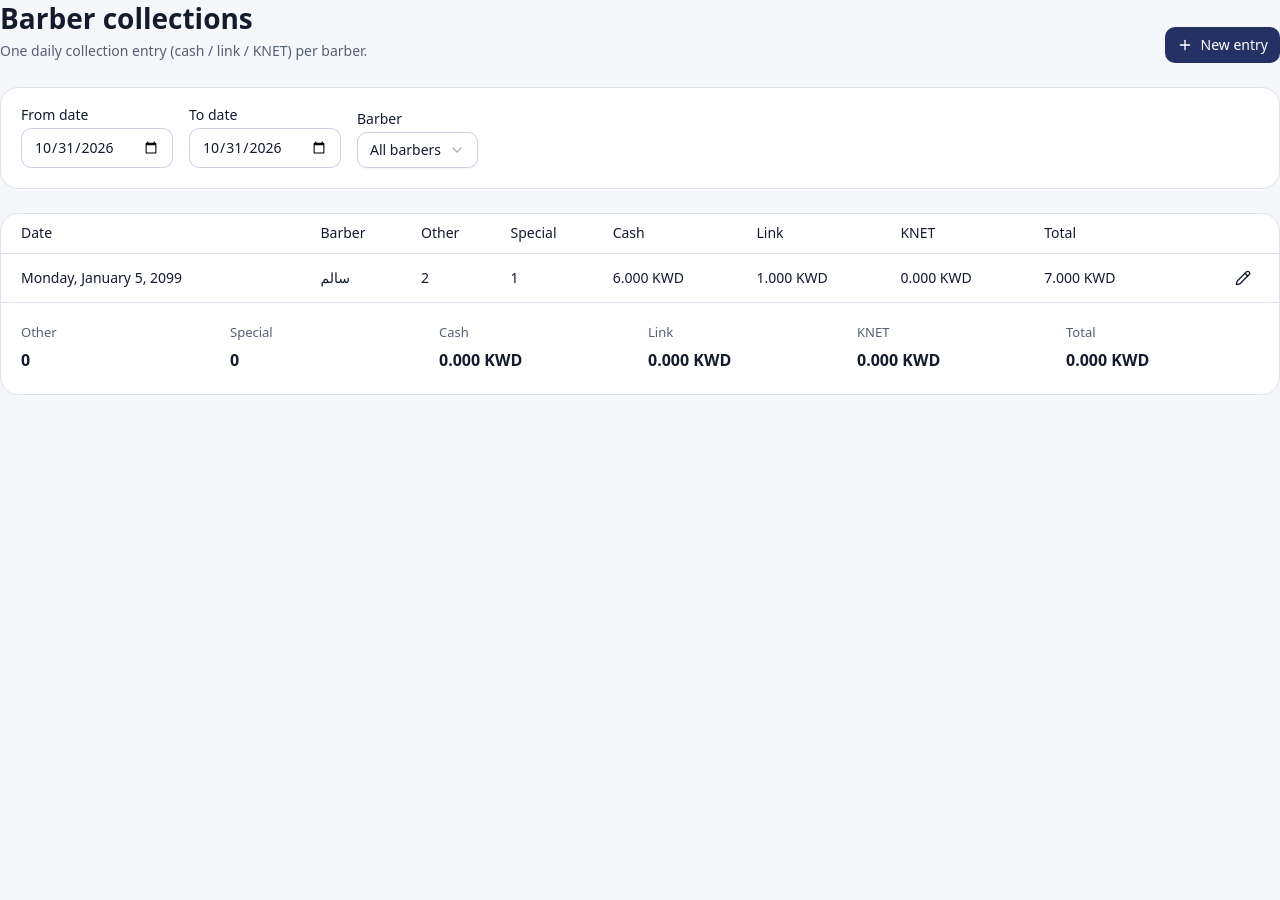
Test: shows an entry's stored edit history with the before and after values
The image size is (1280, 900).
Click the button named "Edit entry". click: [1243, 278]
box: [1227,262,1259,294]
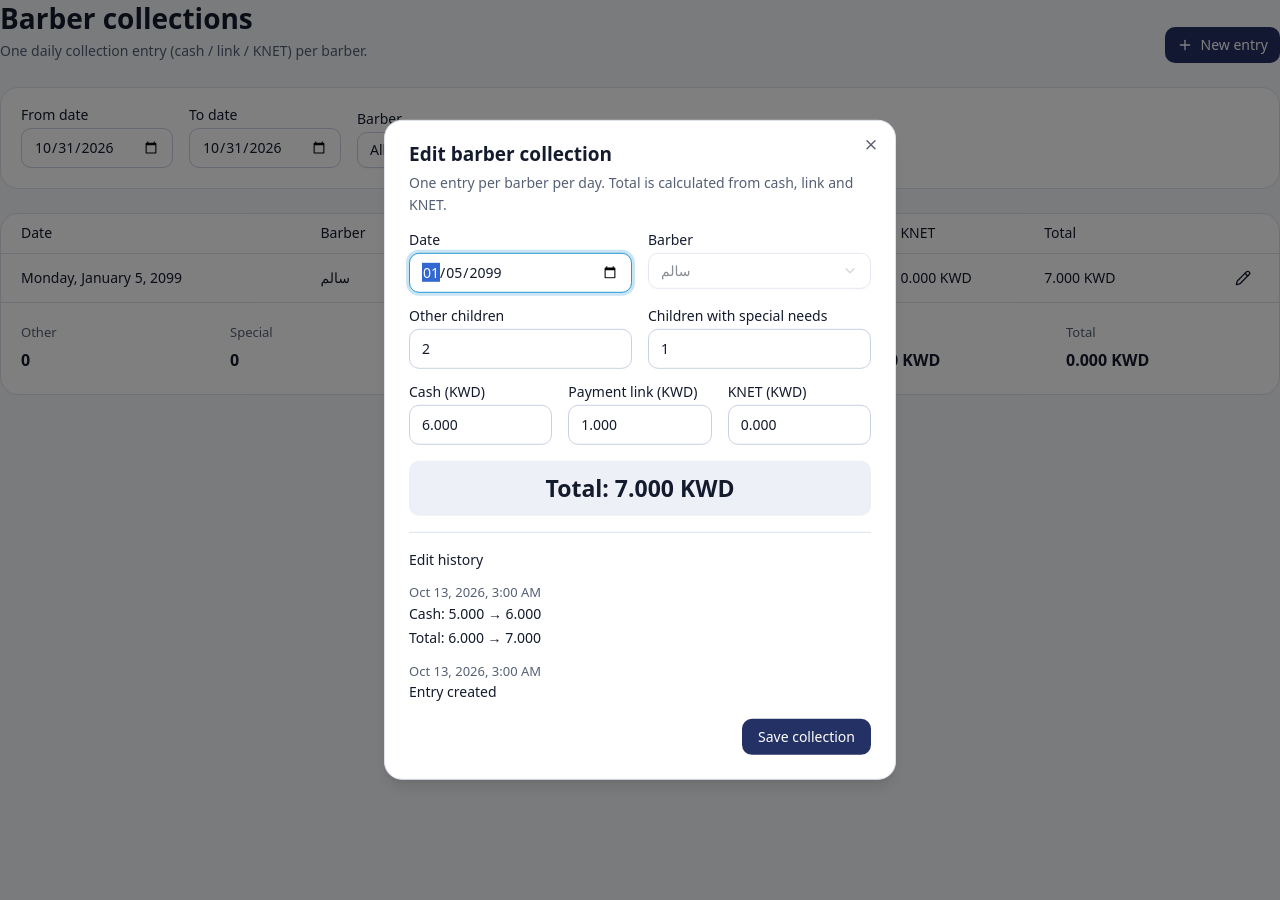
Expected: the list item "Cash: 5.000 → 6.000" is shown, [409,604,541,622]
Expected: the text "Entry created" is shown, [409,682,497,701]
